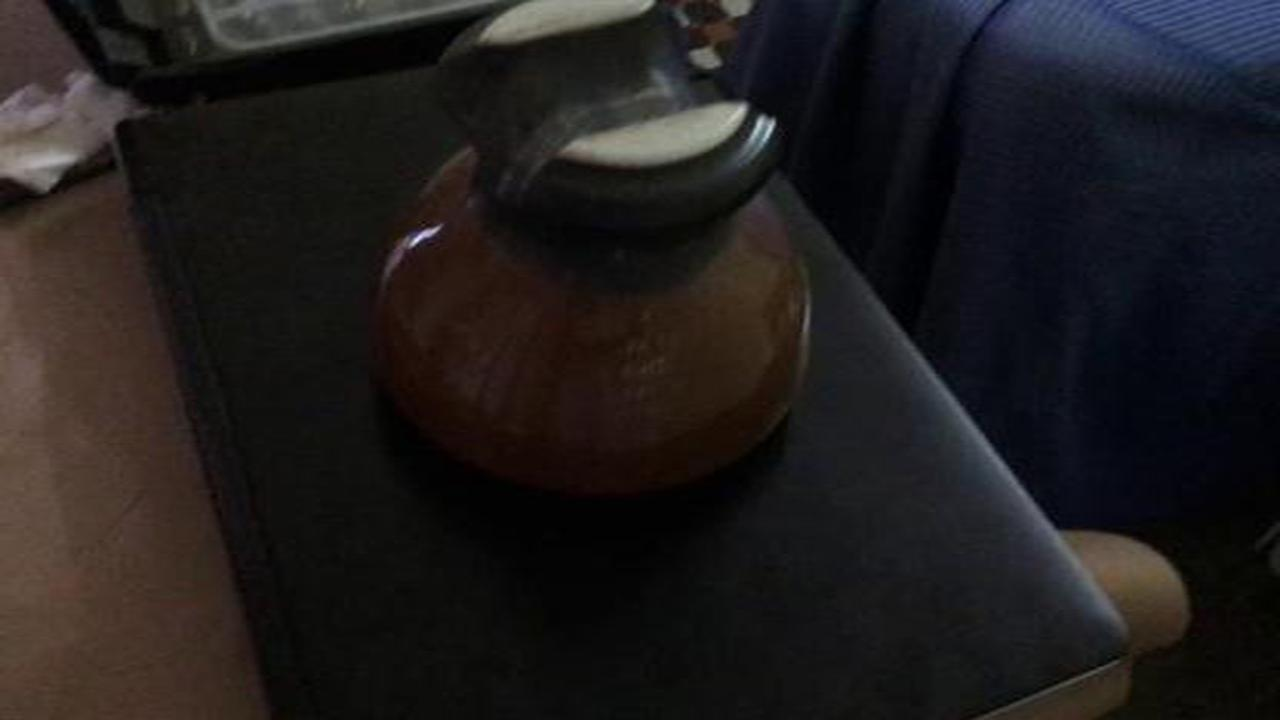insulator_pin: (359, 4, 828, 521)
